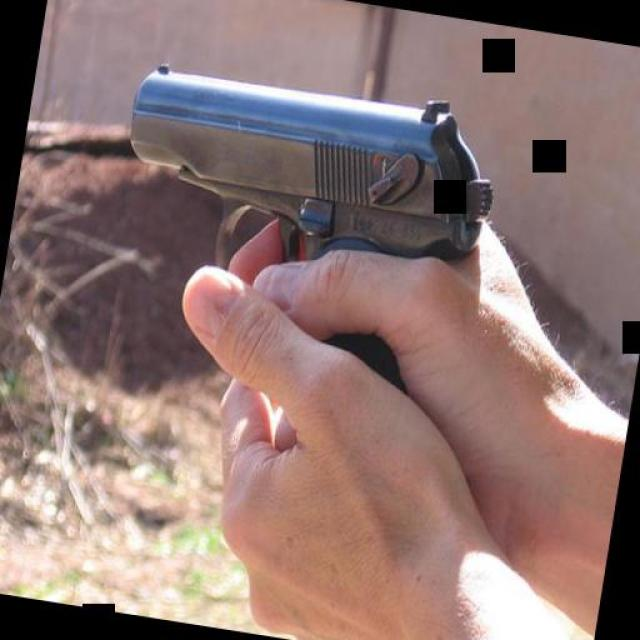gun: (90, 52, 505, 406)
